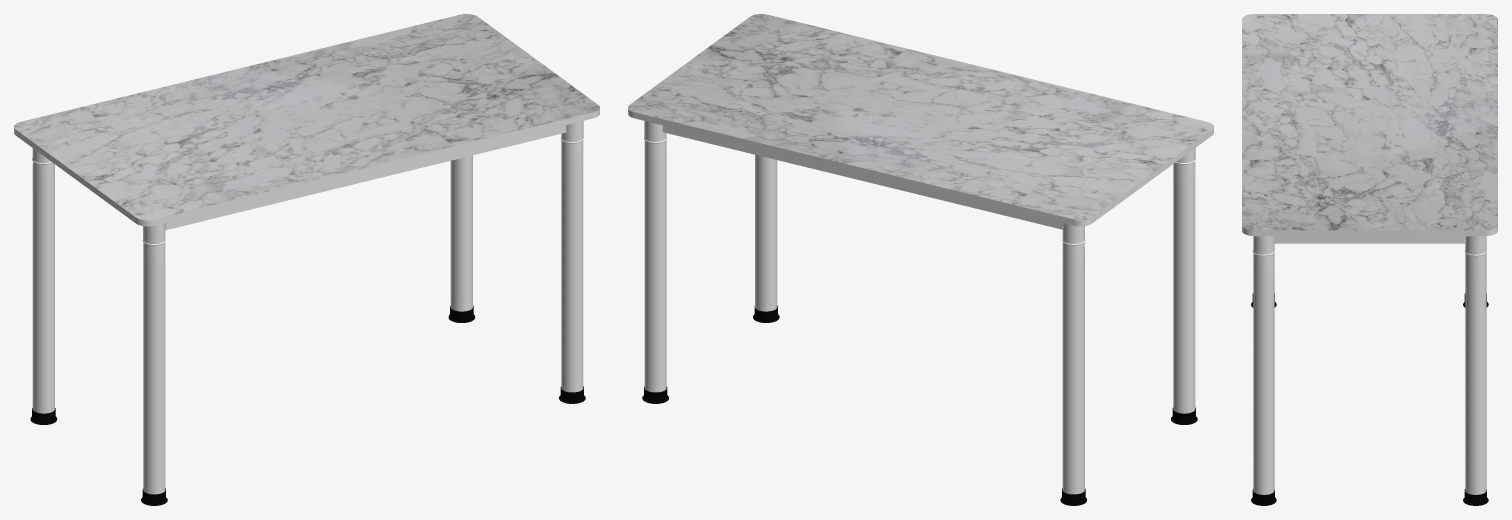
File: eban1.glb
The picture shows the model from 3 angles, left to right: view 1: azimuth 30°, elevation 25°; view 2: azimuth 150°, elevation 25°; view 3: azimuth 270°, elevation 25°; orthographic projection. The views are drawn at different scales.
Parts seen in each view (by area): view 1: 상판1200*600-비앙코화이트, 대675다리50*47 (×4), 상판1200*600-Mat, 지지대 대2; view 2: 상판1200*600-비앙코화이트, 대675다리50*47 (×4), 상판1200*600-Mat, 지지대 대1; view 3: 상판1200*600-비앙코화이트, 대675다리50*47 (×2), 상판1200*600-Mat, 지지대 소, Tube.1, Tube.
Part boxes in pixels (<box>): 상판1200*600-비앙코화이트: <box>14,14,599,220</box>; 대675다리50*47 (×4): <box>32,140,583,494</box>; 상판1200*600-Mat: <box>14,108,599,226</box>; 지지대 대2: <box>165,125,566,229</box>; 상판1200*600-비앙코화이트: <box>628,14,1213,220</box>; 대675다리50*47 (×4): <box>644,140,1195,494</box>; 상판1200*600-Mat: <box>628,108,1213,226</box>; 지지대 대1: <box>662,125,1062,229</box>; 상판1200*600-비앙코화이트: <box>1242,14,1497,230</box>; 대675다리50*47 (×2): <box>1253,253,1486,494</box>; 상판1200*600-Mat: <box>1242,226,1497,236</box>; 지지대 소: <box>1274,236,1465,243</box>; Tube.1: <box>1465,236,1486,254</box>; Tube: <box>1253,236,1274,254</box>.
Size of the model in its own units: 120 by 72.43 by 60.
Materials: 5 (1 with a texture image).
